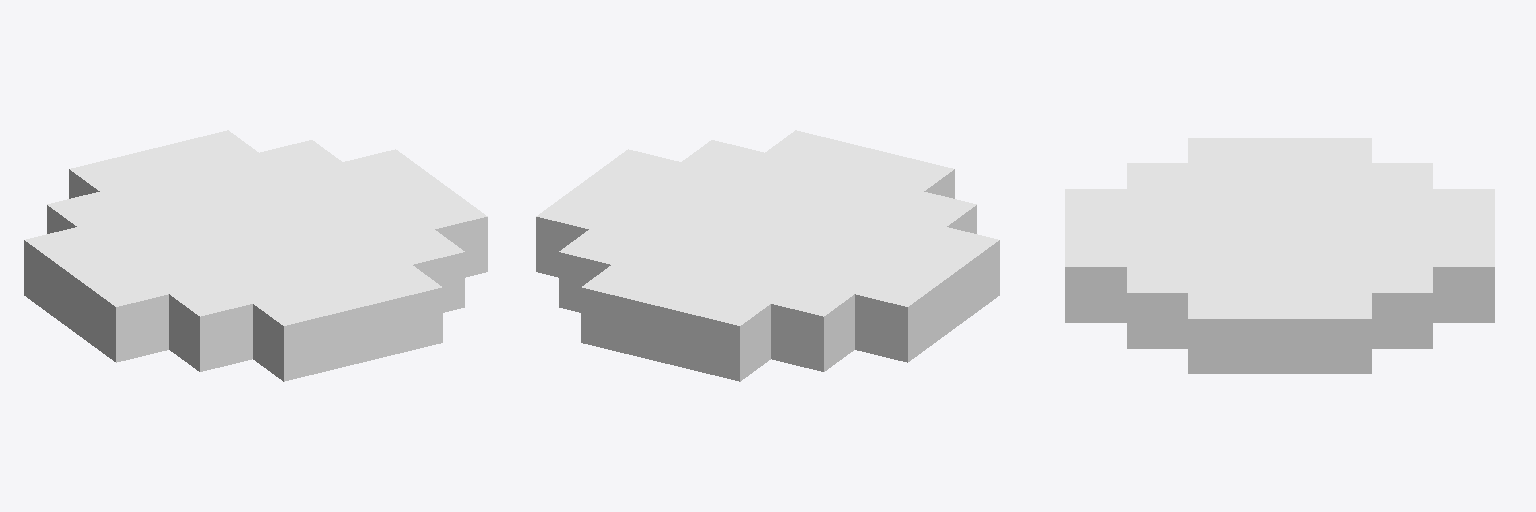
File: CrossyCoin.obj
3 renders of one model, left to right at view 1: azimuth 30°, elevation 25°; view 2: azimuth 150°, elevation 25°; view 3: azimuth 270°, elevation 25°, orthographic.
Parts seen in each view (by area): view 1: object 1; view 2: object 1; view 3: object 1.
Boxes of the visible parts, box(x1,y1,x2,y2) form: object 1: box(24, 130, 487, 381); object 1: box(536, 130, 999, 381); object 1: box(1065, 138, 1494, 373).
Size of the model in its own units: 0.7 by 0.1 by 0.7.